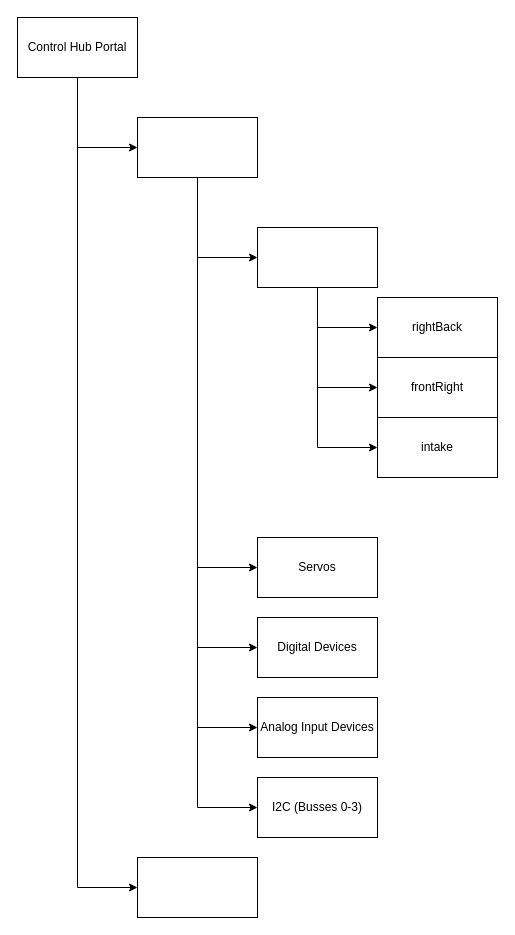
Image size: 515x935. Some labels were removed from this diagram. The shapes that lost their labels are listed below. From the top down, each one's box as (x1, y1, x2, y2) in pixels, then its label:
(136, 116, 258, 178): Expansion Hub 2
(256, 226, 378, 288): Motors
(136, 856, 258, 918): Control Hub
